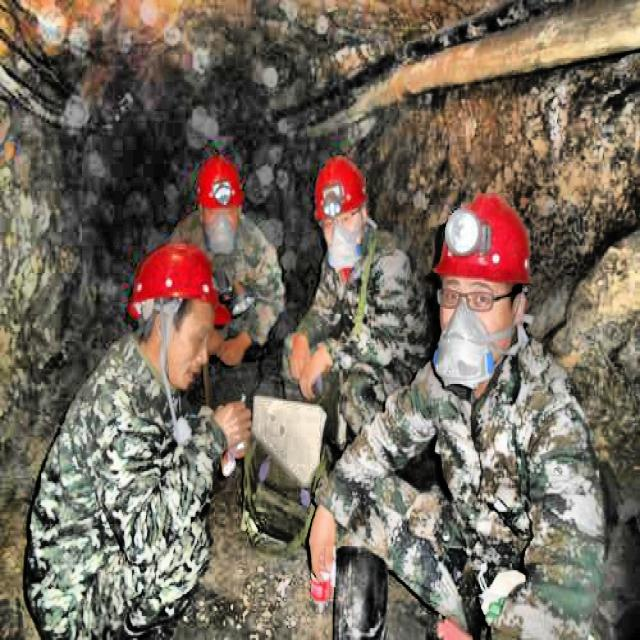helmet: (439, 196, 534, 352), (130, 238, 228, 376), (311, 152, 373, 264), (193, 150, 243, 248)
